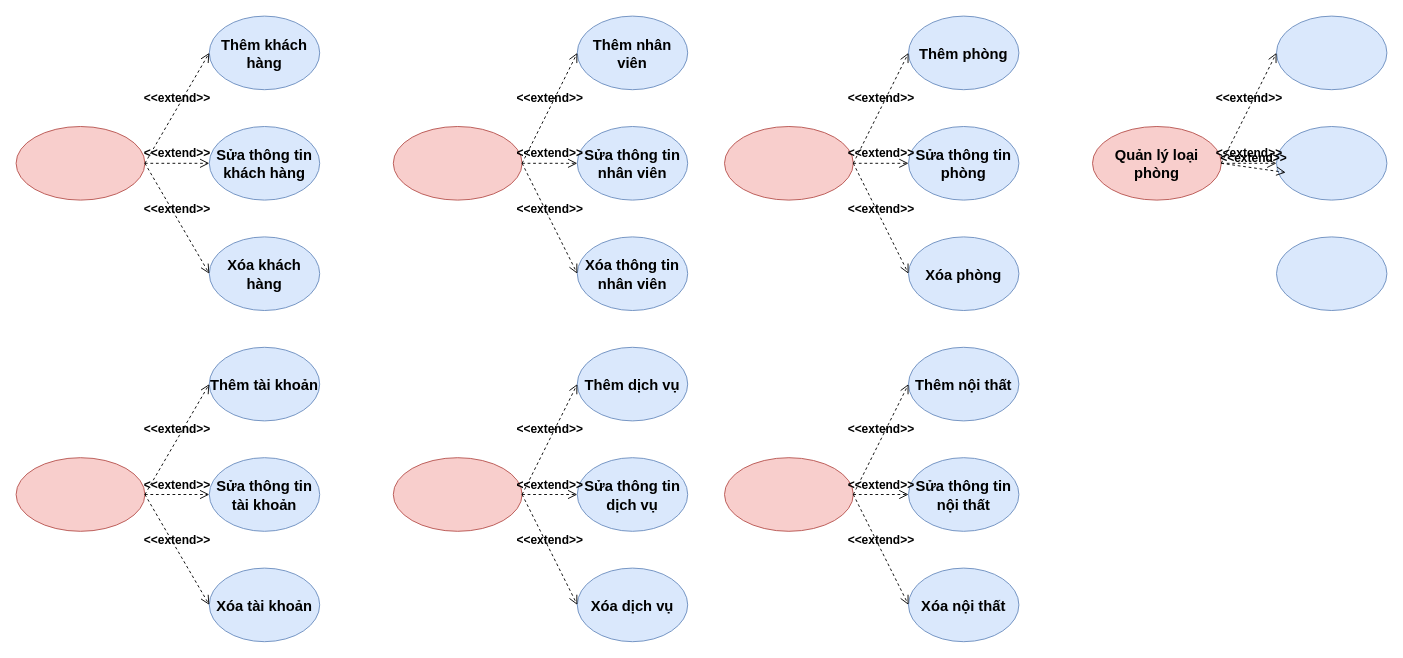
Image size: 1403x658. Some labels were removed from this diagram. The centre of each missing label's shape, as x and y in pixels:
"Quản lý danh sách dịch vụ" goes at (x=457, y=494).
"Quản lý danh sách khách hàng" goes at (x=80, y=163).
"Quản lý danh sách nhân viên" goes at (x=457, y=163).
"Quản lý danh sách phòng" goes at (x=788, y=163).
"Quản lý nội thất" goes at (x=788, y=494).
"Quản lý tài khoản" goes at (x=80, y=494).
"Sửa thông tin loại phòng" goes at (x=1331, y=163).
"Thêm loại phòng" goes at (x=1331, y=52).
"Xóa loại phòng" goes at (x=1331, y=273).
